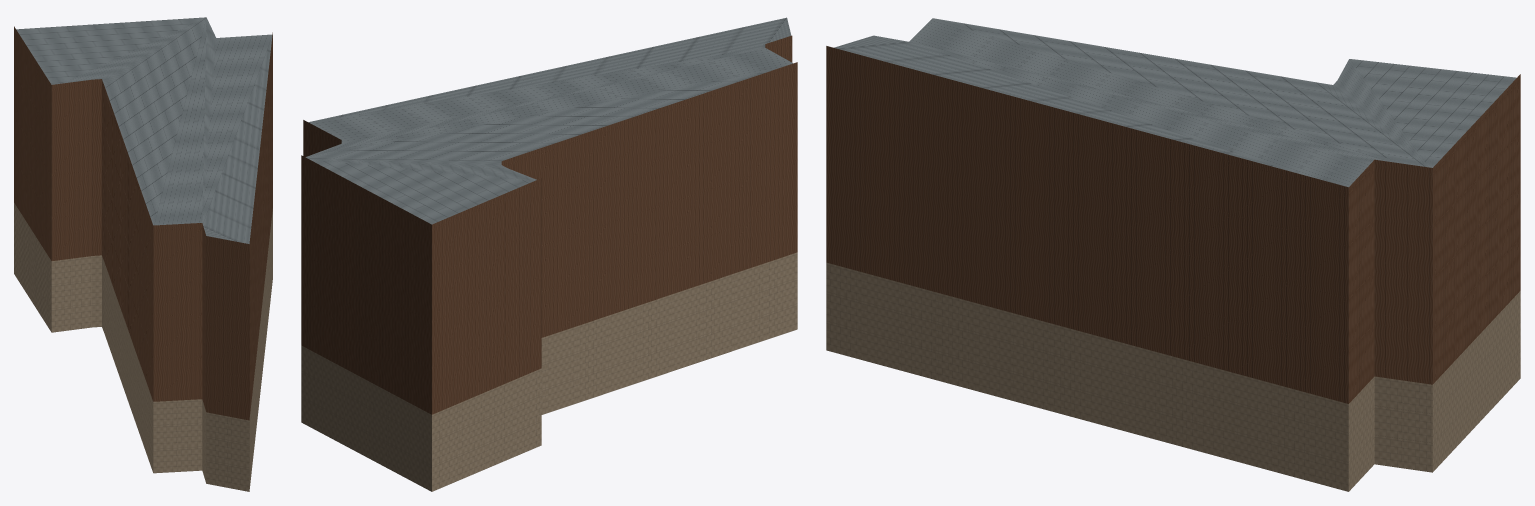
The model's file is bld_c10_41_507.gltf.
3 views of the same model, side by side, from view 1: azimuth 30°, elevation 25°; view 2: azimuth 150°, elevation 25°; view 3: azimuth 270°, elevation 25° (orthographic). The views are drawn at different scales.
Parts seen in each view (by area): view 1: bld_c10_41_507; view 2: bld_c10_41_507; view 3: bld_c10_41_507.
Part boxes in pixels (x1,y1,x2,y2): bld_c10_41_507: (14,17,272,491); bld_c10_41_507: (301,17,797,491); bld_c10_41_507: (826,18,1520,491).
Bounding box in the file's own units: 21.57 × 17.68 × 36.51.
4 materials, 4 textured.
